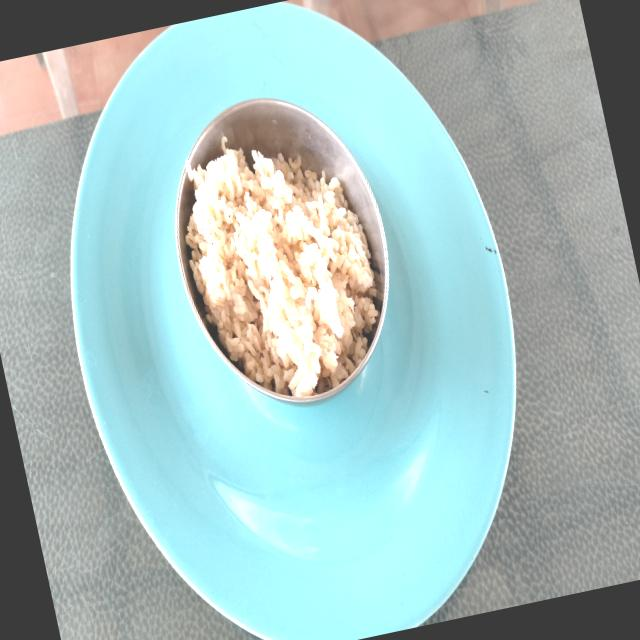brown-rice: (185, 136, 378, 398)
